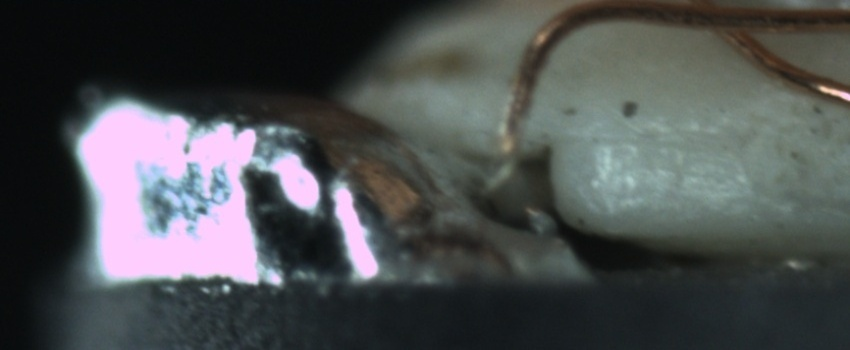CL: (690, 4, 780, 53)
DL: (561, 109, 738, 172)
